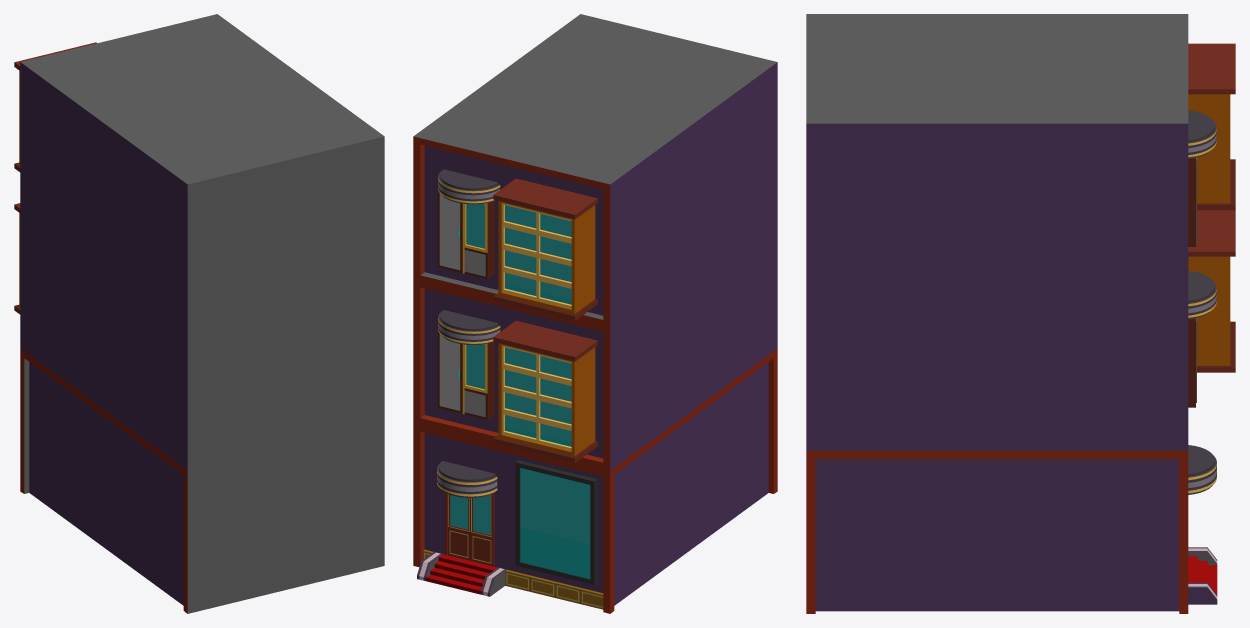
The model's file is Himik_Street_Prop_Building_4.fbx.
3 renders of one model, left to right at view 1: azimuth 30°, elevation 25°; view 2: azimuth 150°, elevation 25°; view 3: azimuth 270°, elevation 25°, orthographic. The views are drawn at different scales.
Parts seen in each view (by area): view 1: PropBulding5_Body; view 2: PropBulding5_Body, PropBulding5_Body.005, PropBulding5_Body.004, PropBulding5_Body.003, PropBulding5_Body.007, PropBulding5_Body.001, Cylinder, Cylinder.001, Cylinder.002; view 3: PropBulding5_Body, PropBulding5_Body.005, PropBulding5_Body.004, PropBulding5_Body.007, Cylinder, Cylinder.002, Cylinder.001.
Part boxes in pixels (left/top/right/bottom): PropBulding5_Body: left=20, top=14, right=384, bottom=613; PropBulding5_Body: left=413, top=14, right=777, bottom=613; PropBulding5_Body.005: left=493, top=178, right=597, bottom=320; PropBulding5_Body.004: left=493, top=320, right=597, bottom=462; PropBulding5_Body.003: left=515, top=460, right=597, bottom=584; PropBulding5_Body.007: left=437, top=190, right=494, bottom=419; PropBulding5_Body.001: left=447, top=494, right=491, bottom=565; Cylinder: left=437, top=461, right=497, bottom=497; Cylinder.001: left=438, top=310, right=500, bottom=344; Cylinder.002: left=438, top=169, right=500, bottom=204; PropBulding5_Body: left=806, top=14, right=1217, bottom=613; PropBulding5_Body.005: left=1188, top=43, right=1235, bottom=210; PropBulding5_Body.004: left=1188, top=210, right=1235, bottom=372; PropBulding5_Body.007: left=1188, top=157, right=1196, bottom=407; Cylinder: left=1188, top=445, right=1216, bottom=494; Cylinder.002: left=1188, top=110, right=1216, bottom=158; Cylinder.001: left=1188, top=271, right=1216, bottom=318.
Bounding box in the file's own units: 988 × 1633 × 2059.
6 materials, 6 textured.
